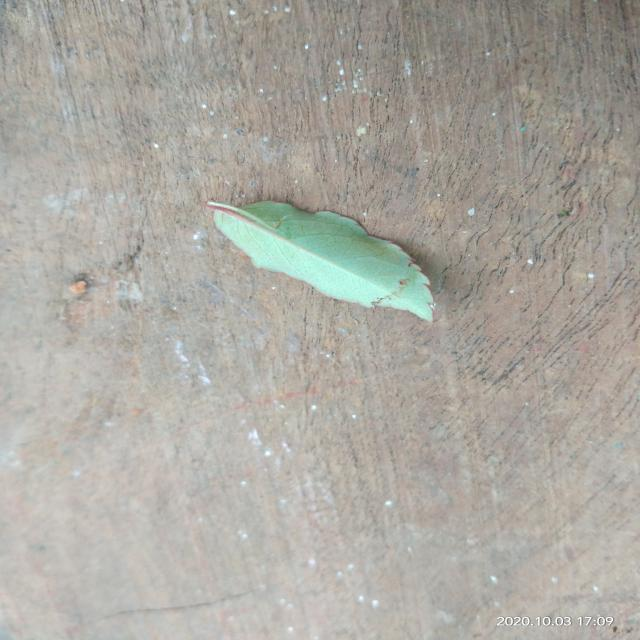rose: (207, 201, 433, 321)
